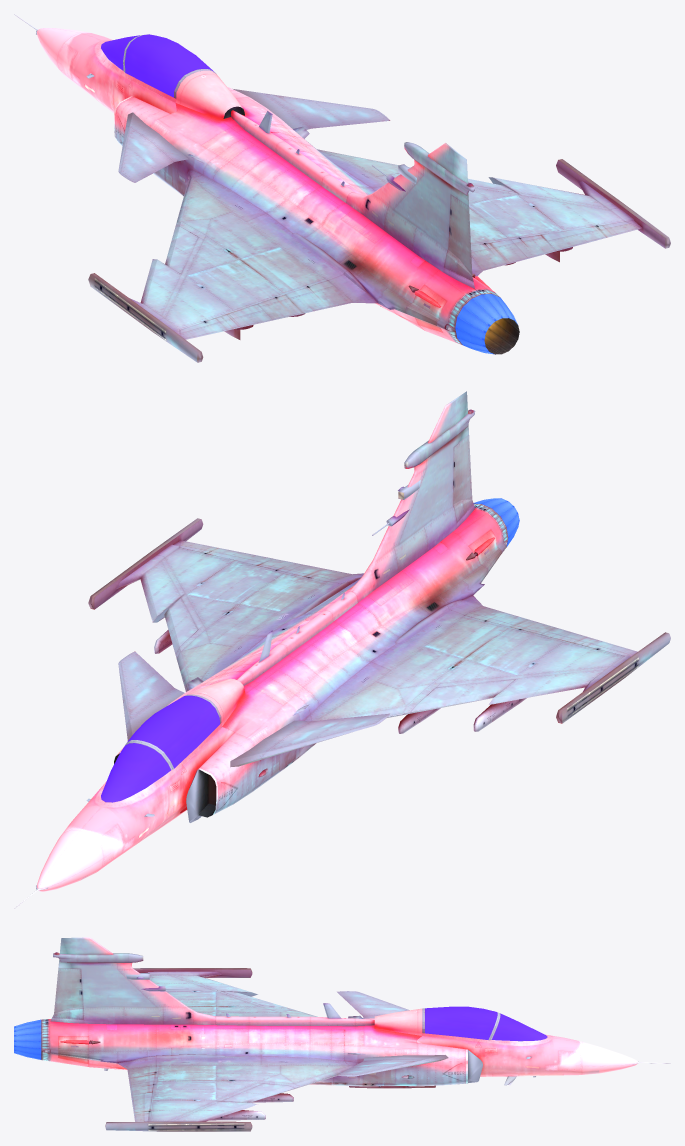
3 renders of one model, top to bottom at view 1: azimuth 30°, elevation 25°; view 2: azimuth 150°, elevation 25°; view 3: azimuth 270°, elevation 25°, orthographic. The views are drawn at different scales.
Parts seen in each view (by area): view 1: SAB-39_LOD0, SAB-39_Glass, SAB-39_EngineL01, SAB-39_CanardR01, SAB-39_FlapL01, SAB-39_CanardL01, SAB-39_FlapR01, SAB-39_RudderL01, SAB-39_VoletL01, SAB-39_AileronL01, SAB-39_AileronR01, SAB-39_VoletL02 (+2 smaller); view 2: SAB-39_LOD0, SAB-39_Glass, SAB-39_CanardR01, SAB-39_CanardL01, SAB-39_VoletL02, SAB-39_VoletL01, SAB-39_VoletR01, SAB-39_FlapL01, SAB-39_VoletR02, SAB-39_RudderL01, SAB-39_FlapR01, SAB-39_AileronL01 (+3 smaller); view 3: SAB-39_LOD0, SAB-39_Glass, SAB-39_RudderL01, SAB-39_CanardR01, SAB-39_FlapR01, SAB-39_EngineL01, SAB-39_CanardL01, SAB-39_VoletR01, SAB-39_VoletR02, SAB-39_BrakeR01, SAB-39_VoletL01, SAB-39_AileronR01 (+2 smaller).
Boxes of the visible parts, x1,y1,x2,y2 form: SAB-39_LOD0: (14,14,670,362); SAB-39_Glass: (101,34,213,97); SAB-39_EngineL01: (455,294,519,354); SAB-39_CanardR01: (233,89,390,129); SAB-39_FlapL01: (258,270,377,320); SAB-39_CanardL01: (118,112,188,182); SAB-39_FlapR01: (471,235,556,276); SAB-39_RudderL01: (444,194,473,281); SAB-39_VoletL01: (140,259,183,318); SAB-39_AileronL01: (175,304,272,339); SAB-39_AileronR01: (542,220,642,251); SAB-39_VoletL02: (165,222,204,276); SAB-39_LOD0: (14,391,670,908); SAB-39_Glass: (101,695,219,802); SAB-39_CanardR01: (118,651,184,740); SAB-39_CanardL01: (230,713,389,767); SAB-39_VoletL02: (403,676,519,714); SAB-39_VoletL01: (489,666,609,704); SAB-39_VoletR01: (140,557,183,622); SAB-39_FlapL01: (444,595,556,634); SAB-39_VoletR02: (164,594,204,657); SAB-39_RudderL01: (453,434,473,521); SAB-39_FlapR01: (258,558,363,584); SAB-39_AileronL01: (542,628,637,656); SAB-39_LOD0: (41,937,670,1131); SAB-39_Glass: (425,1006,547,1041); SAB-39_RudderL01: (52,968,83,1019); SAB-39_CanardR01: (337,1055,448,1076); SAB-39_FlapR01: (117,1055,156,1095); SAB-39_EngineL01: (14,1019,41,1059); SAB-39_CanardL01: (337,991,409,1018); SAB-39_VoletR01: (168,1101,257,1121); SAB-39_VoletR02: (216,1081,299,1102); SAB-39_BrakeR01: (58,1035,89,1063); SAB-39_VoletL01: (168,975,257,996); SAB-39_AileronR01: (131,1092,151,1121).
Bounding box in the file's own units: 8.31 × 3.55 × 14.83.
Materials: 4 (4 with a texture image).
